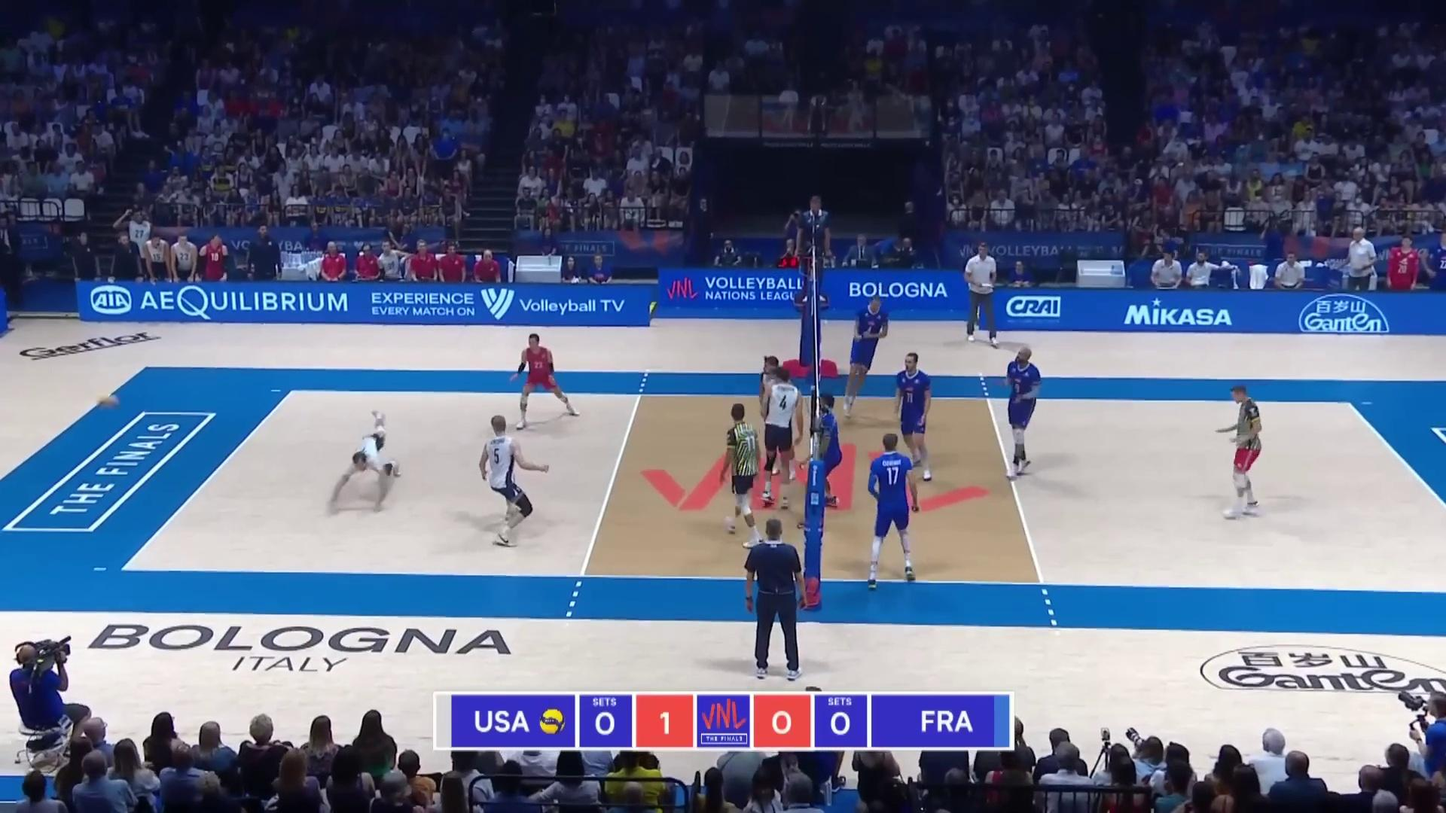player: (857, 434, 923, 586), (478, 417, 542, 547), (332, 410, 400, 515), (718, 403, 764, 547), (515, 334, 580, 430), (1219, 387, 1267, 517), (761, 363, 803, 504), (896, 353, 937, 485), (846, 295, 887, 420), (1006, 348, 1045, 478), (759, 354, 800, 476), (805, 394, 844, 508)
refree: (745, 516, 810, 678), (790, 194, 831, 304)
